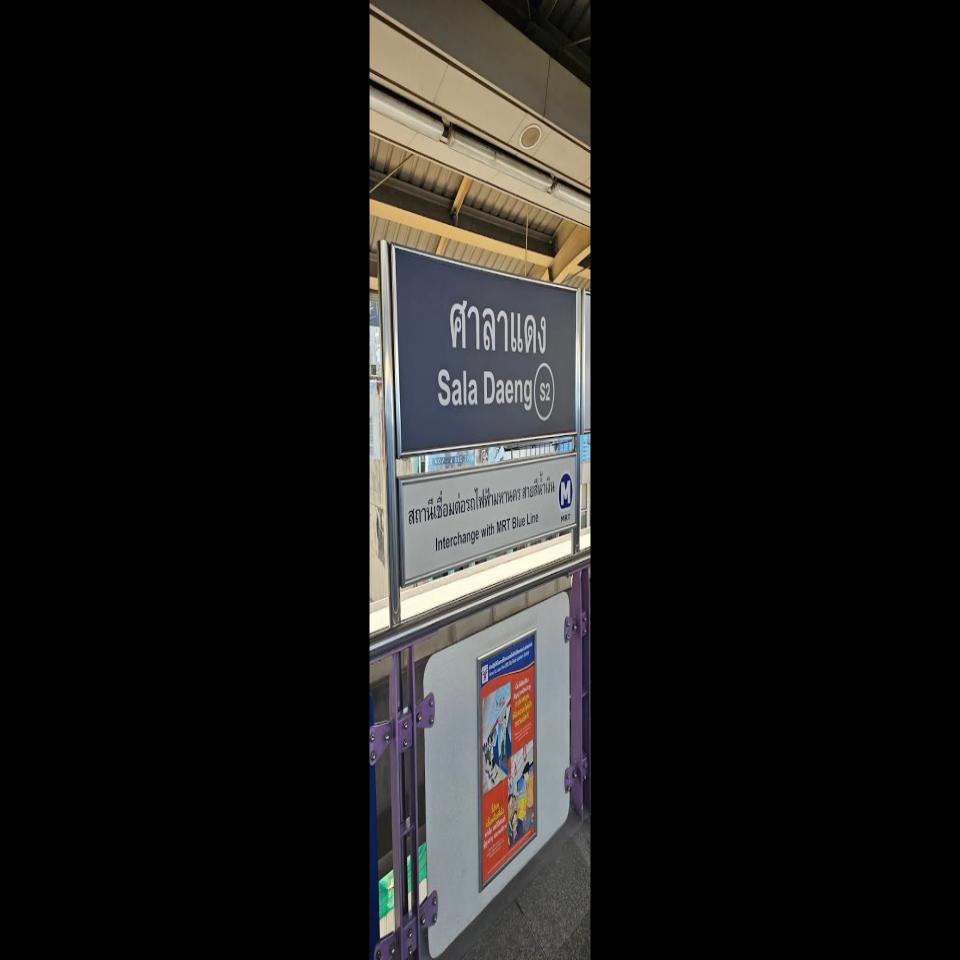signage: (390, 240, 580, 459)
